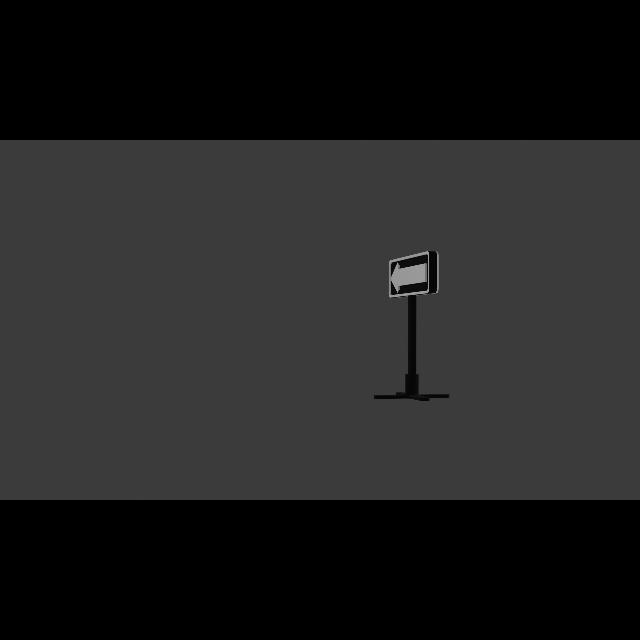sign_oneway_left: (389, 251, 434, 299)
